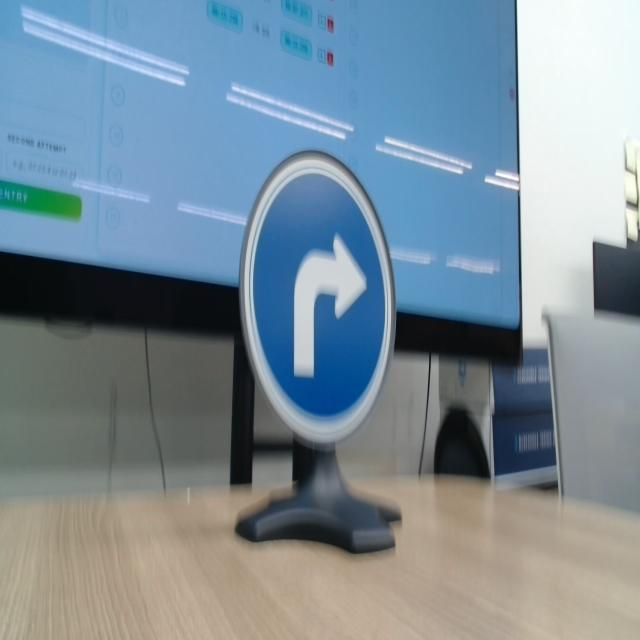right_dierection: (234, 132, 399, 448)
